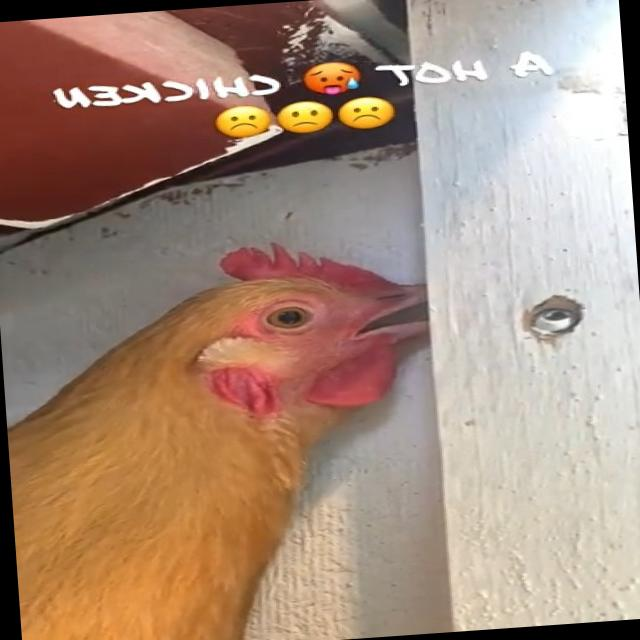Breathing: (0, 230, 451, 640)
